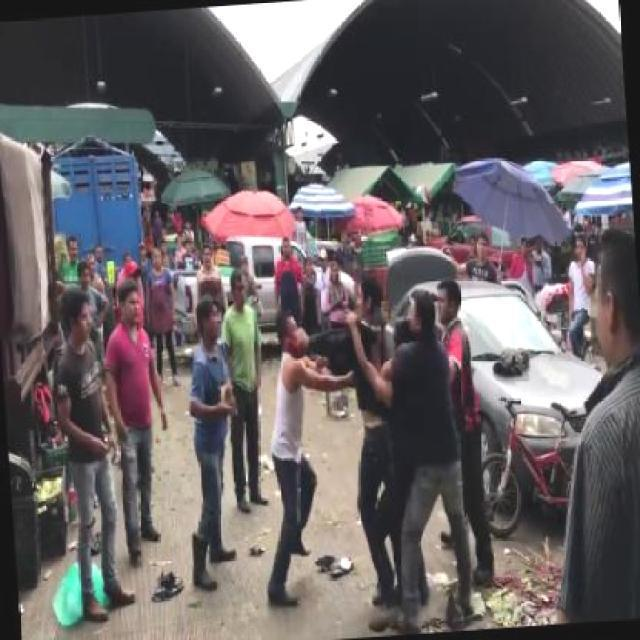fight: (243, 274, 406, 614)
